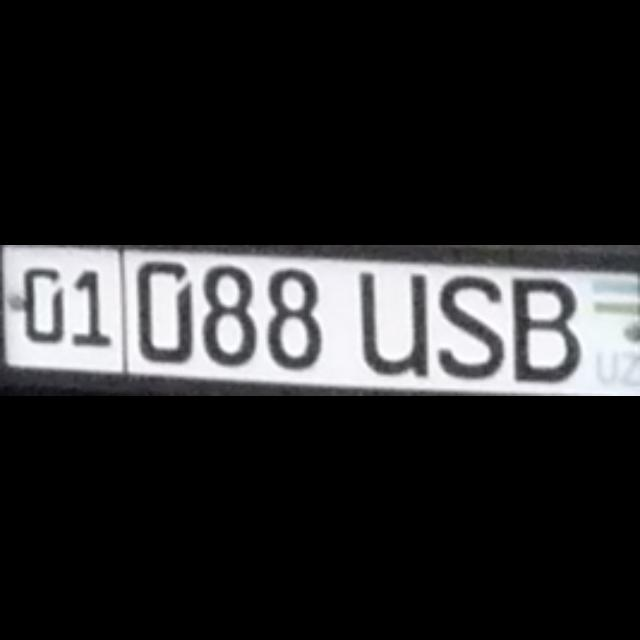0: (134, 256, 190, 360), (19, 264, 62, 340)
1: (66, 266, 108, 342)
8: (202, 260, 254, 362), (266, 266, 318, 366)
B: (510, 276, 580, 378)
S: (436, 272, 504, 376)
U: (358, 268, 424, 374)
